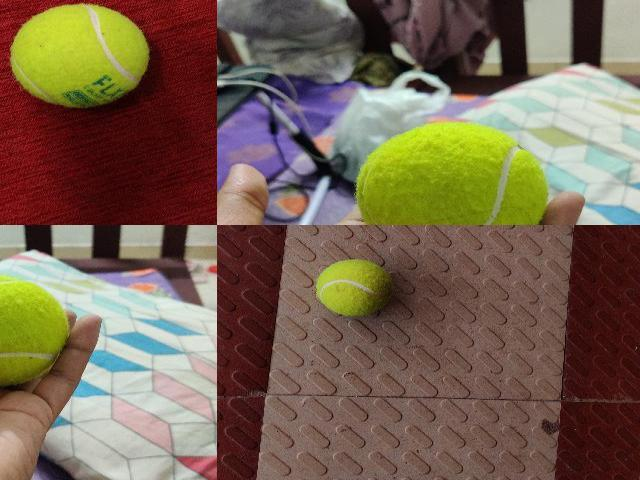tennis-ball: (355, 123, 548, 224), (9, 3, 151, 108), (0, 274, 69, 387), (316, 258, 392, 316)
